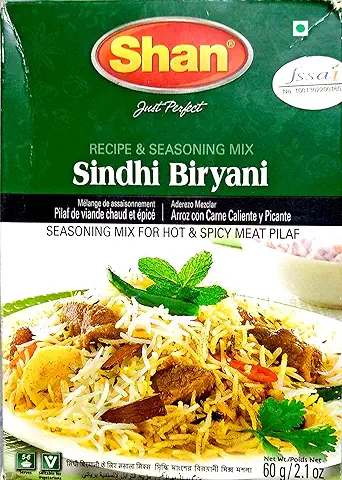Biryani: (6, 4, 342, 480)
